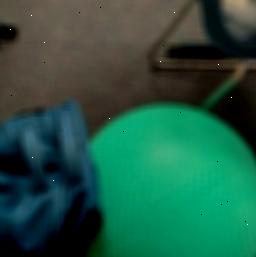algae: (86, 105, 256, 257)
